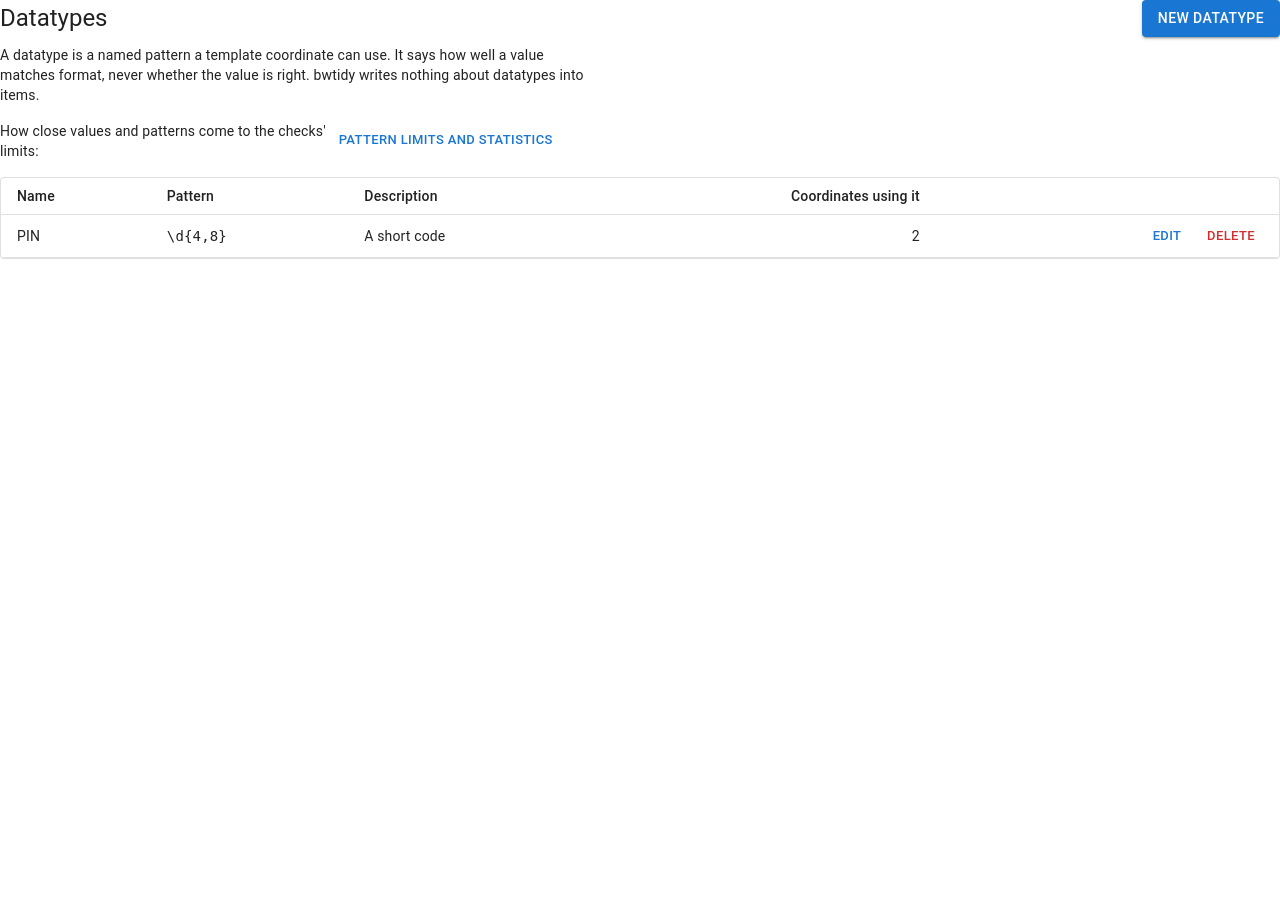
Test: a pattern error shows its column marked under the pattern, and Save stays disabled
The width and height of the screenshot is (1280, 900).
Click the button "New datatype": (1211, 18) [1142,0,1279,36]
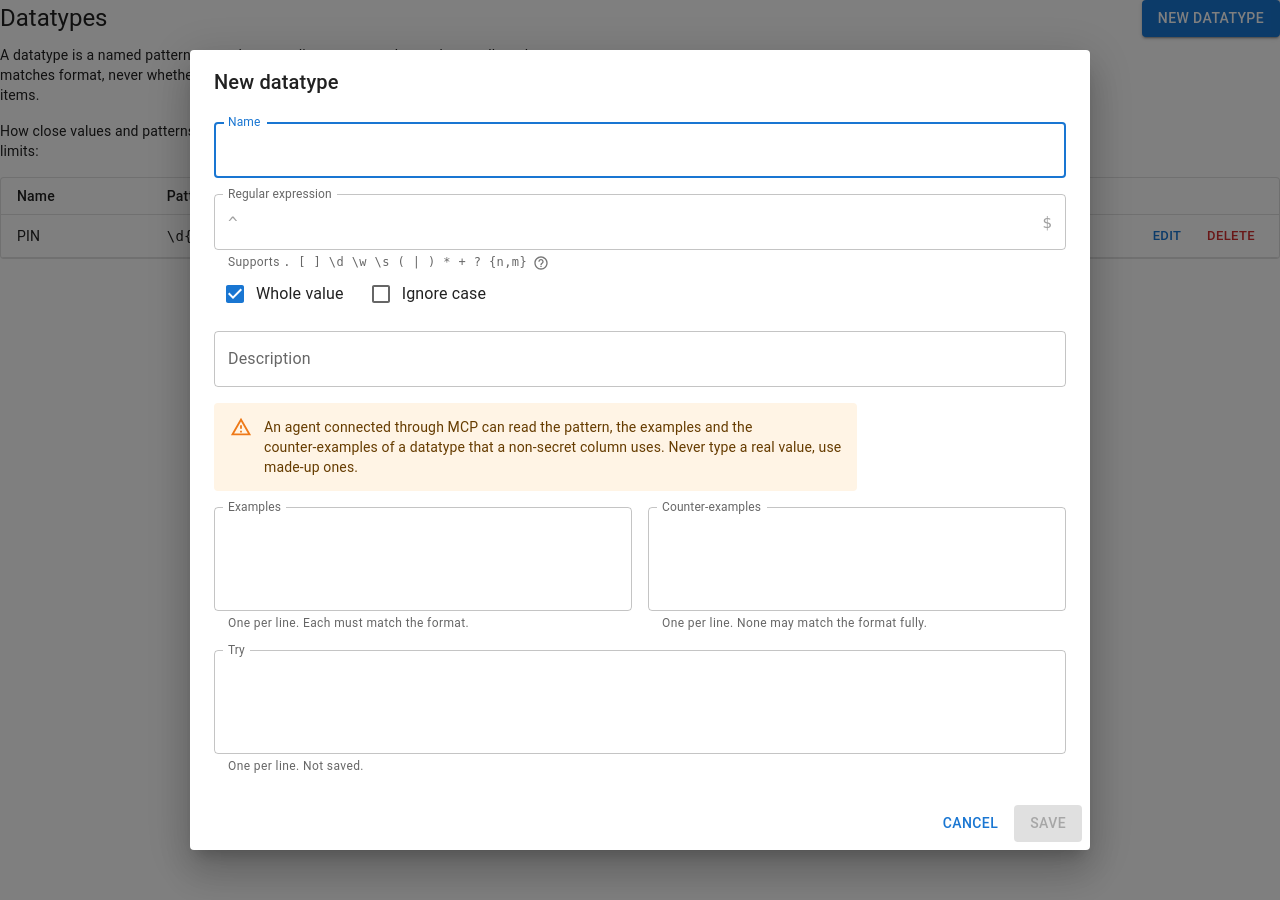
In the field labelled "Name": (640, 150) [214,122,1066,178], type "Code"
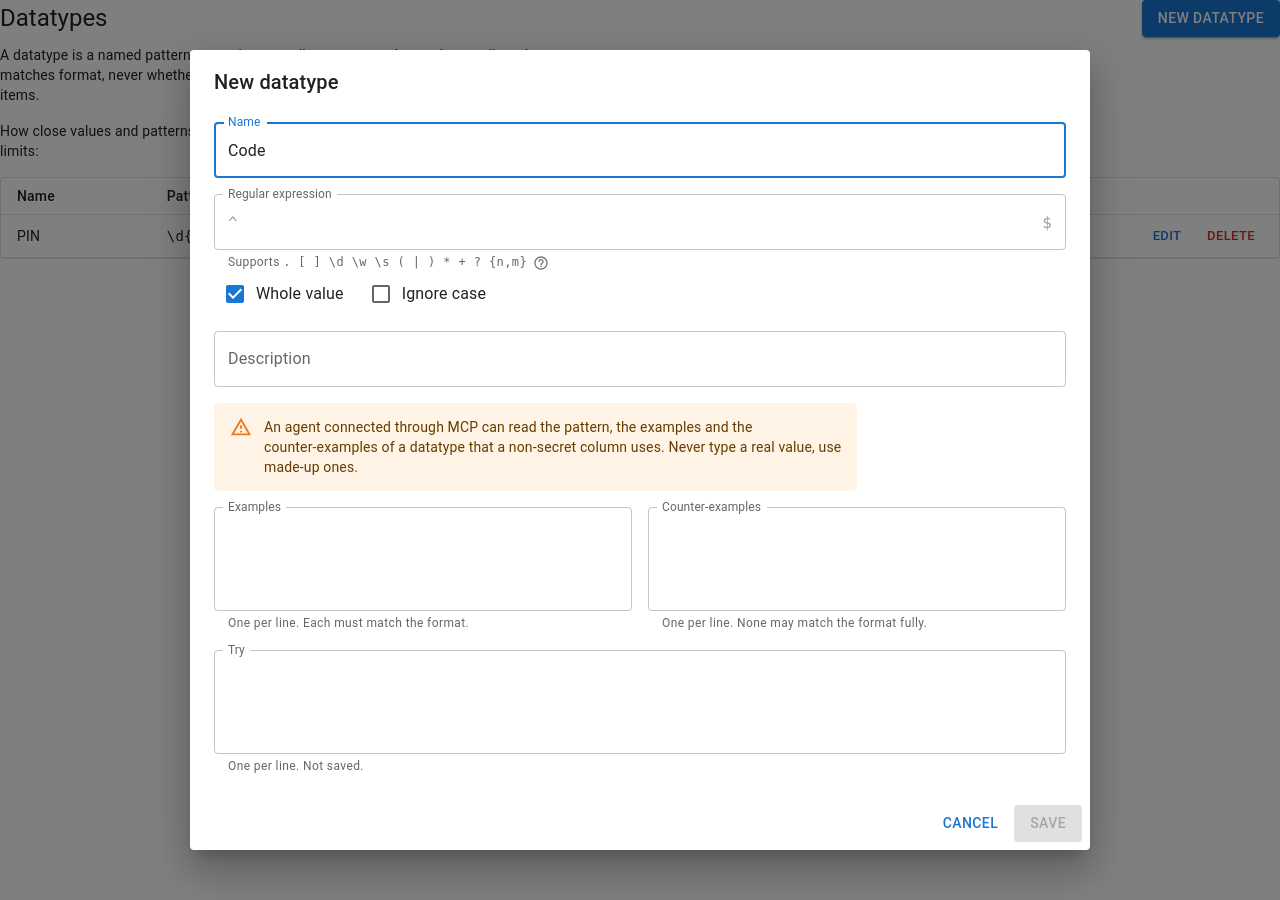
In the field labelled "Regular expression": (640, 222) [238,194,1042,250], type "ab("
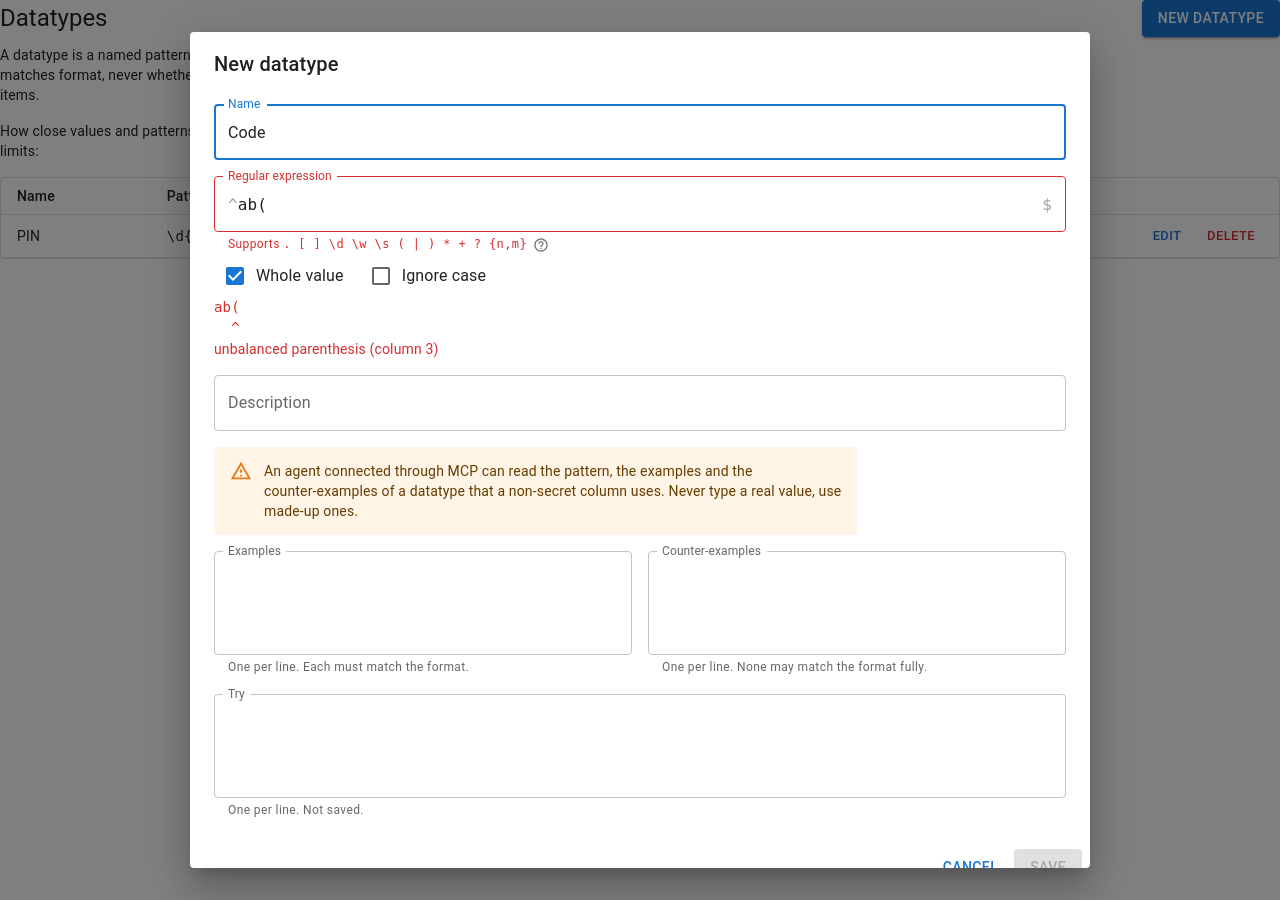
Now the message named "Pattern error" shows "unbalanced parenthesis (column 3)", box [214,299,438,357]
